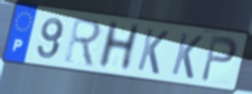9: (35, 17, 66, 60)
H: (95, 20, 143, 72)
K: (169, 31, 205, 82), (135, 27, 170, 77)
P: (199, 34, 239, 85)
R: (63, 16, 103, 70)
